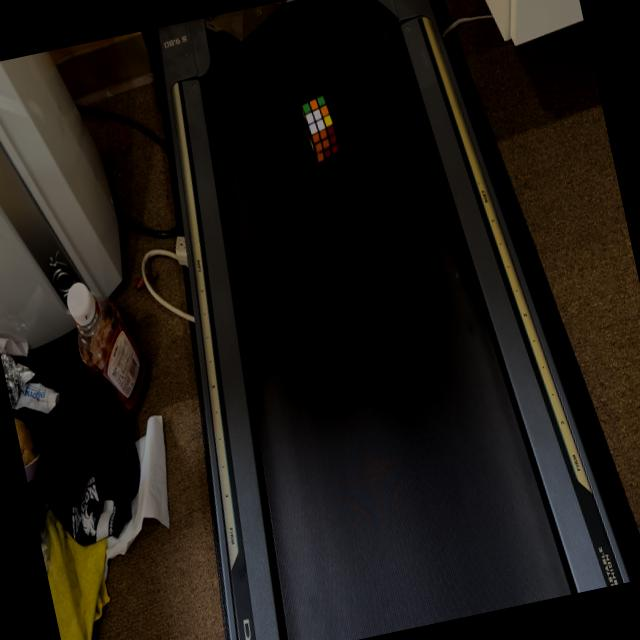Trash: (298, 93, 347, 171)
